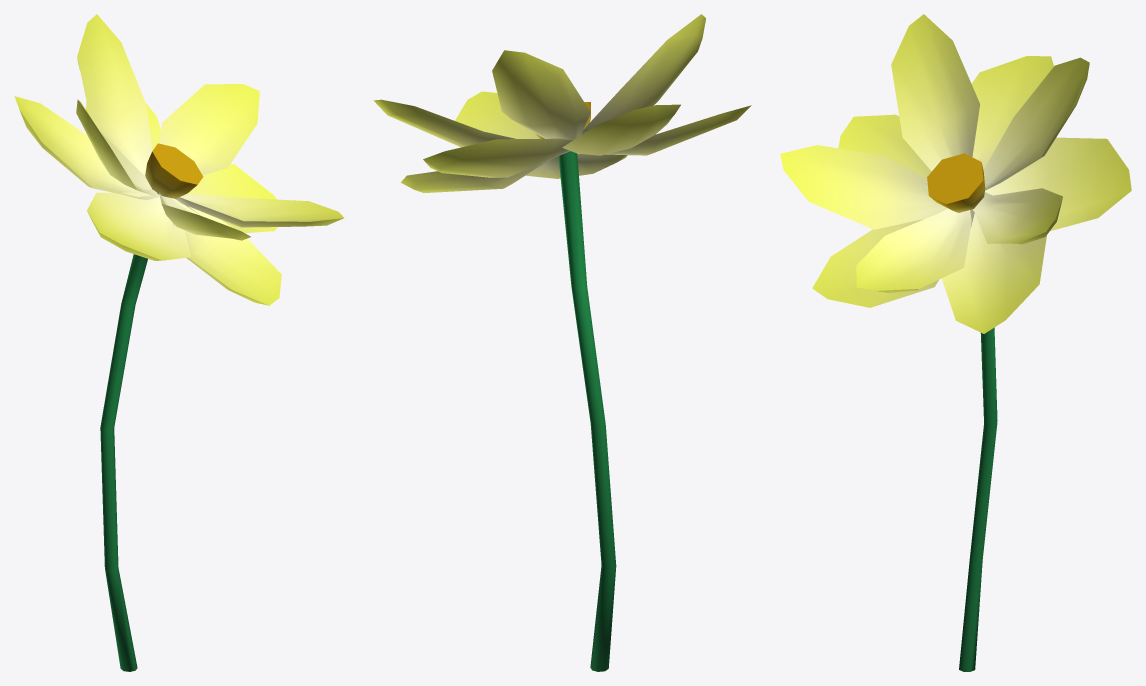
File: AmericanLotus-Bloom-1.fbx
The picture shows the model from 3 angles, left to right: view 1: azimuth 30°, elevation 25°; view 2: azimuth 150°, elevation 25°; view 3: azimuth 270°, elevation 25°; orthographic projection. The views are drawn at different scales.
Parts seen in each view (by area): view 1: AmericanLotus-Flower-1; view 2: AmericanLotus-Flower-1; view 3: AmericanLotus-Flower-1.
Boxes of the visible parts, x1,y1,x2,y2 form: AmericanLotus-Flower-1: (14, 14, 343, 671); AmericanLotus-Flower-1: (373, 14, 751, 671); AmericanLotus-Flower-1: (780, 14, 1131, 671).
Bounding box in the file's own units: 56.72 × 129 × 66.37.
